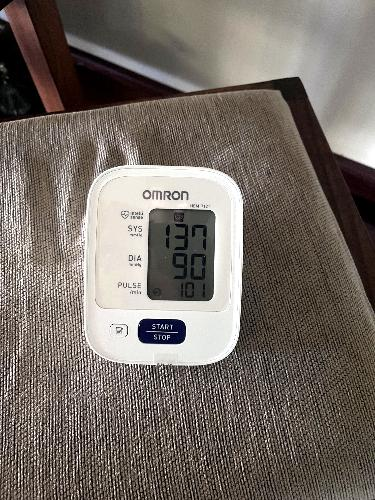bpm: (144, 206, 218, 302)
